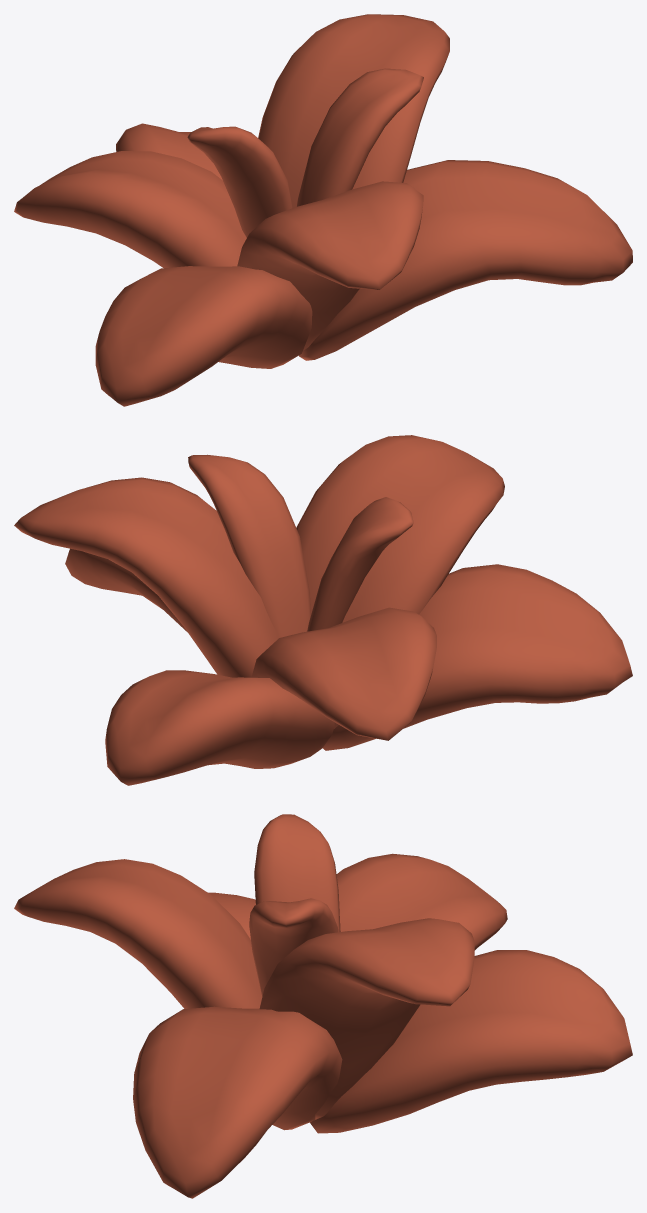
File: Plant_C_02.fbx
3 views of the same model, one above another, from view 1: azimuth 30°, elevation 25°; view 2: azimuth 150°, elevation 25°; view 3: azimuth 270°, elevation 25° (orthographic). The views are drawn at different scales.
Parts seen in each view (by area): view 1: Plant_C_02_LOD0; view 2: Plant_C_02_LOD0; view 3: Plant_C_02_LOD0.
Part boxes in pixels (x1,y1,x2,y2): Plant_C_02_LOD0: [14, 14, 632, 406]; Plant_C_02_LOD0: [14, 435, 632, 785]; Plant_C_02_LOD0: [14, 814, 632, 1198].
Size of what is drawn, in the model's own units: 661 by 315 by 643.
